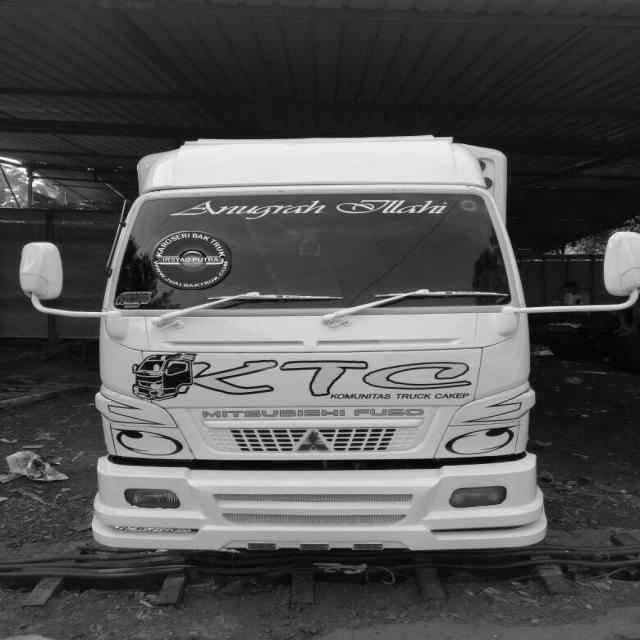truck: (17, 137, 640, 553)
